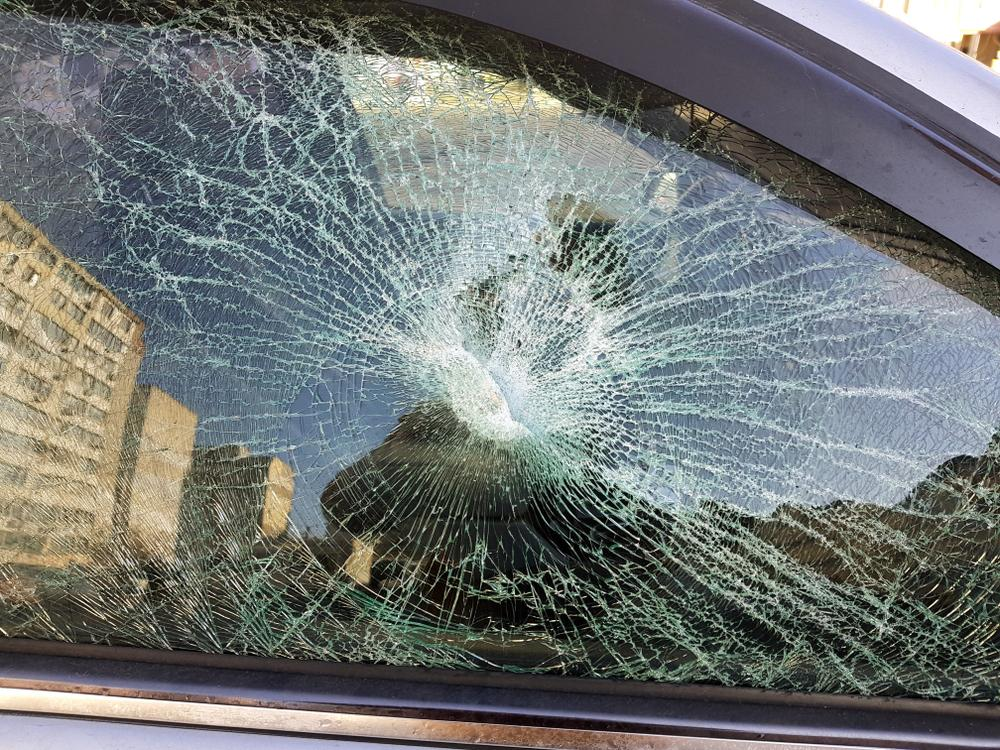glass shatter: (0, 0, 1000, 707)
